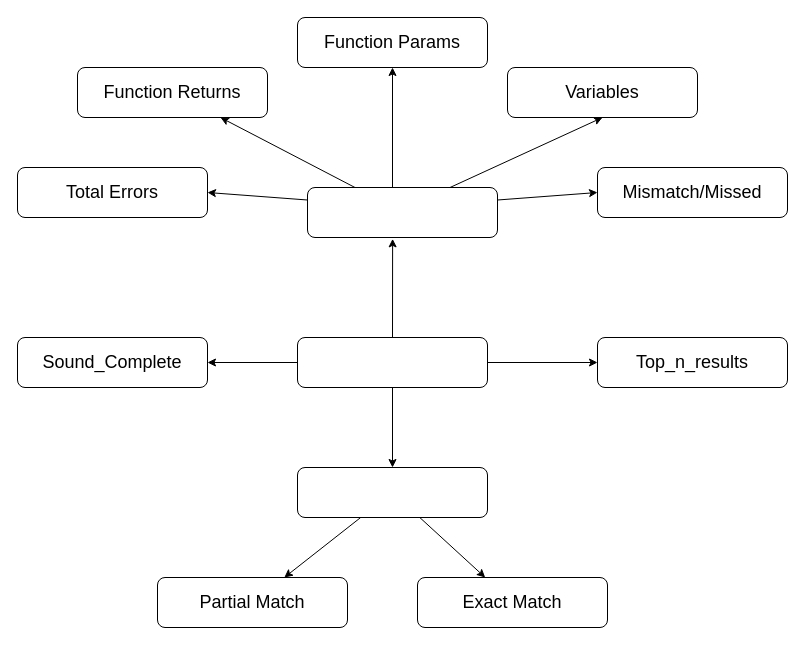
Image size: 805x645. Some labels were removed from this diagram. Each missing label, with the box of its shape:
Error_rate: (306, 186, 498, 238)
Precision_recall: (296, 466, 488, 518)
TypeEvalPy Analyser: (296, 336, 488, 388)
